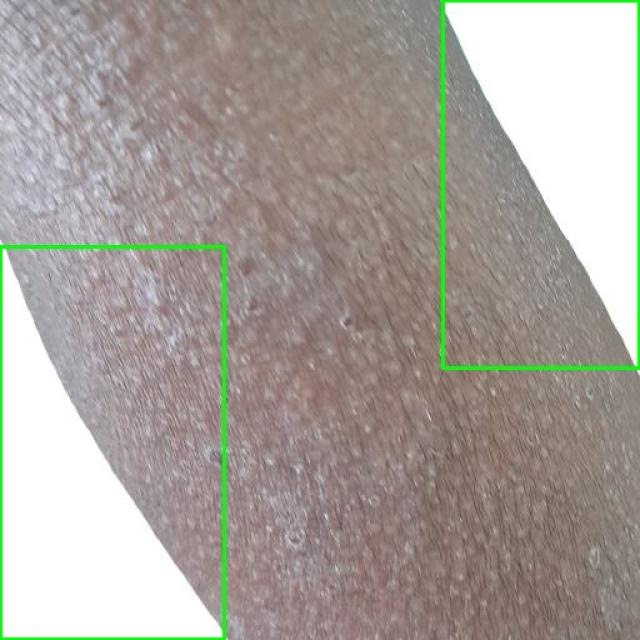Contact Dermatitis: (0, 246, 224, 639), (442, 0, 639, 368)
